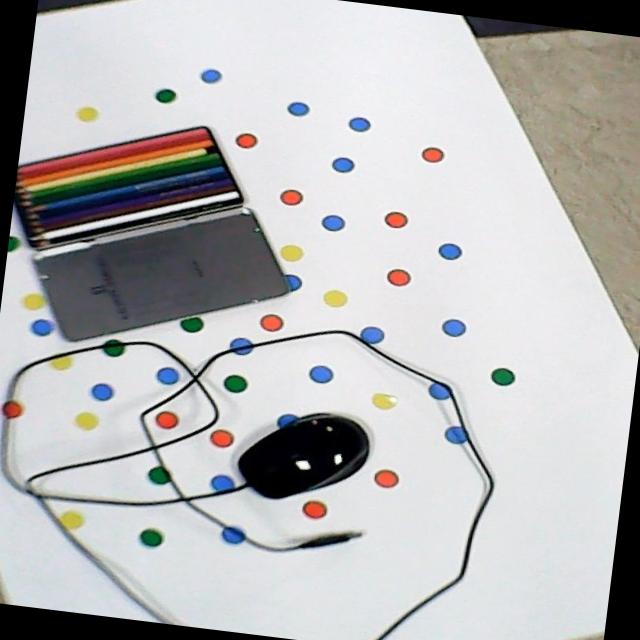color: (13, 120, 253, 254)
mouse: (227, 409, 375, 505)
